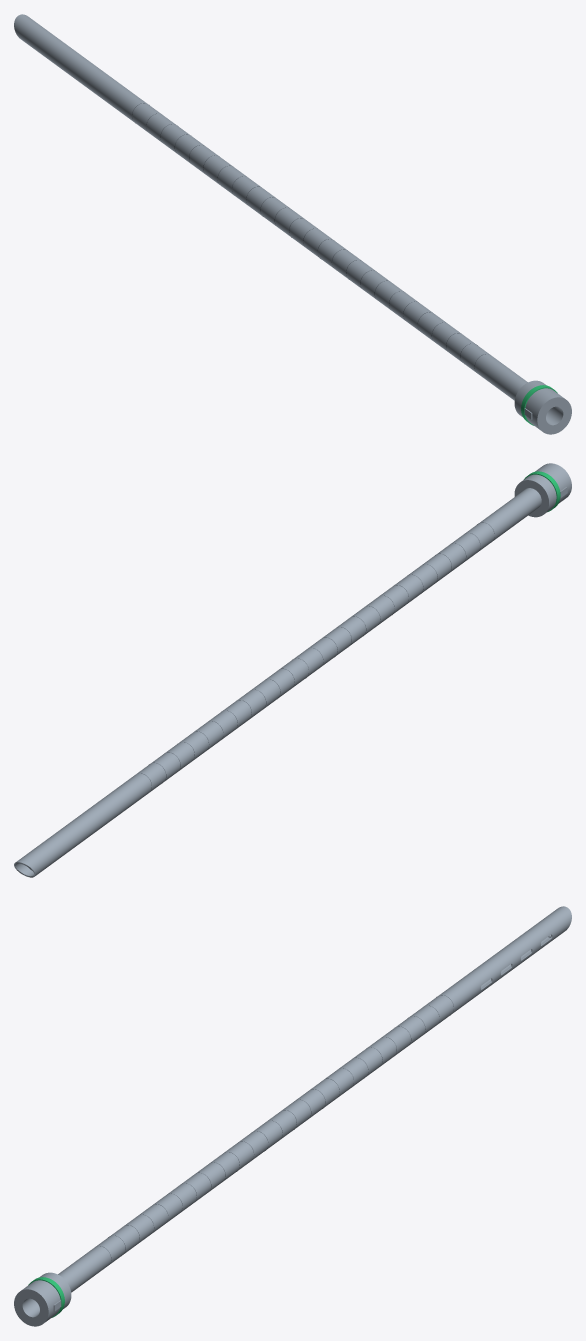
File: bt2105-3-bronchial-tube-od8p00-id7p00mm.glb
The picture shows the model from 3 angles, top to bottom: view 1: azimuth 30°, elevation 25°; view 2: azimuth 150°, elevation 25°; view 3: azimuth 330°, elevation 25°; orthographic projection.
Visible parts, largest first — view 1: BT2105_3_Hollow_Beveled_Tube, BT2105_3_Quarter_Turn_Connector; view 2: BT2105_3_Hollow_Beveled_Tube, BT2105_3_Quarter_Turn_Connector; view 3: BT2105_3_Hollow_Beveled_Tube, BT2105_3_Quarter_Turn_Connector.
Boxes of the visible parts, x1,y1,x2,y2 form: BT2105_3_Hollow_Beveled_Tube: (14, 14, 527, 400); BT2105_3_Quarter_Turn_Connector: (514, 380, 571, 434); BT2105_3_Hollow_Beveled_Tube: (14, 488, 541, 877); BT2105_3_Quarter_Turn_Connector: (514, 463, 571, 517); BT2105_3_Hollow_Beveled_Tube: (58, 906, 571, 1292); BT2105_3_Quarter_Turn_Connector: (14, 1272, 71, 1326).
Size of the model in its own units: 0.0147 by 0.0147 by 0.374.
